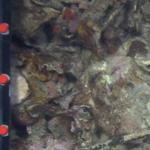dead: (21, 6, 145, 145)
